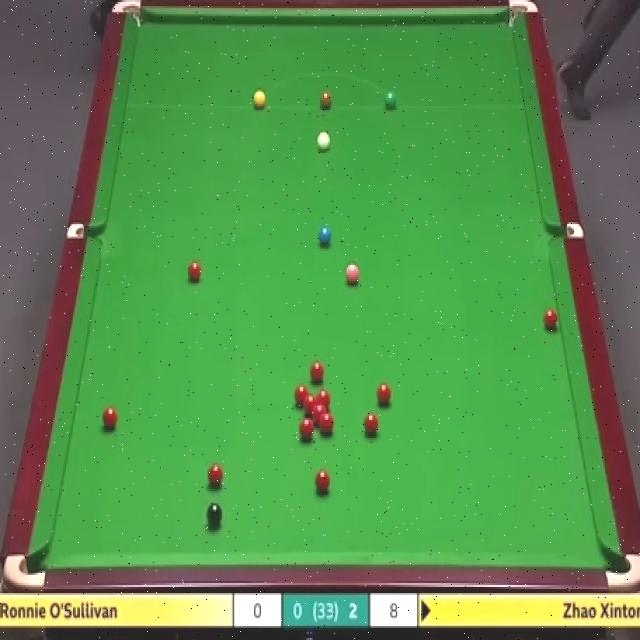black-ball: (206, 503, 224, 531)
blue-ball: (318, 224, 332, 248)
brown-ball: (320, 88, 332, 110)
green-ball: (383, 92, 397, 111)
pink-ball: (346, 262, 360, 284)
red-ball: (362, 411, 380, 439), (375, 381, 393, 408), (102, 404, 118, 431), (543, 306, 559, 332), (315, 468, 330, 494), (208, 463, 224, 487), (310, 360, 324, 386), (299, 417, 313, 442), (294, 383, 308, 407), (320, 412, 334, 435), (188, 260, 202, 282), (303, 394, 317, 414), (318, 389, 330, 410), (313, 404, 326, 423)
white-ball: (314, 128, 334, 160)
yellow-ball: (253, 90, 266, 111)
